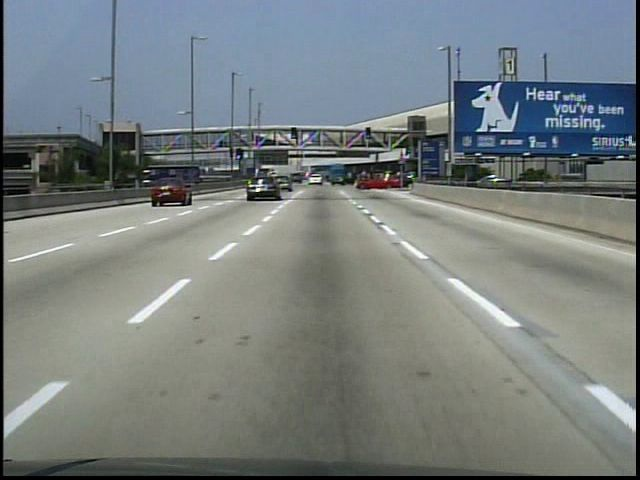person: (218, 139, 224, 150)
